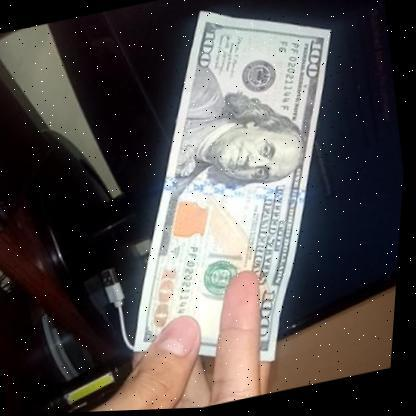one_hundred-front: (75, 0, 391, 397)
